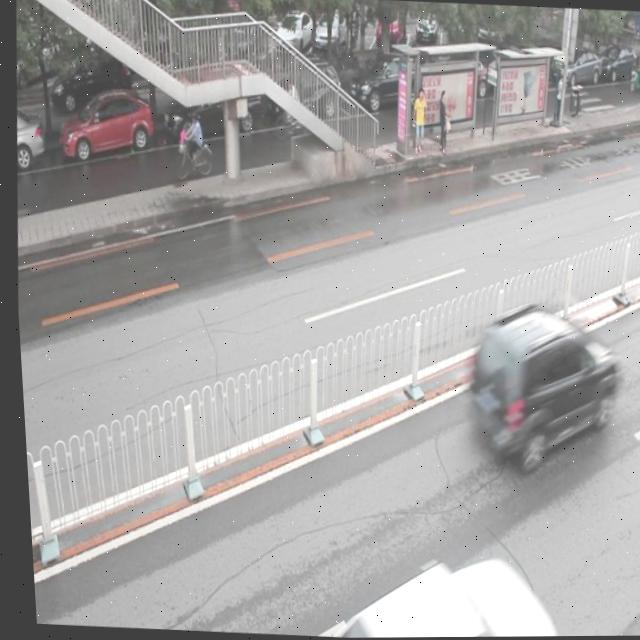car: (455, 297, 621, 480), (283, 543, 551, 638), (57, 85, 156, 160), (159, 77, 263, 146), (264, 61, 343, 127), (345, 55, 429, 115), (12, 101, 44, 170)
